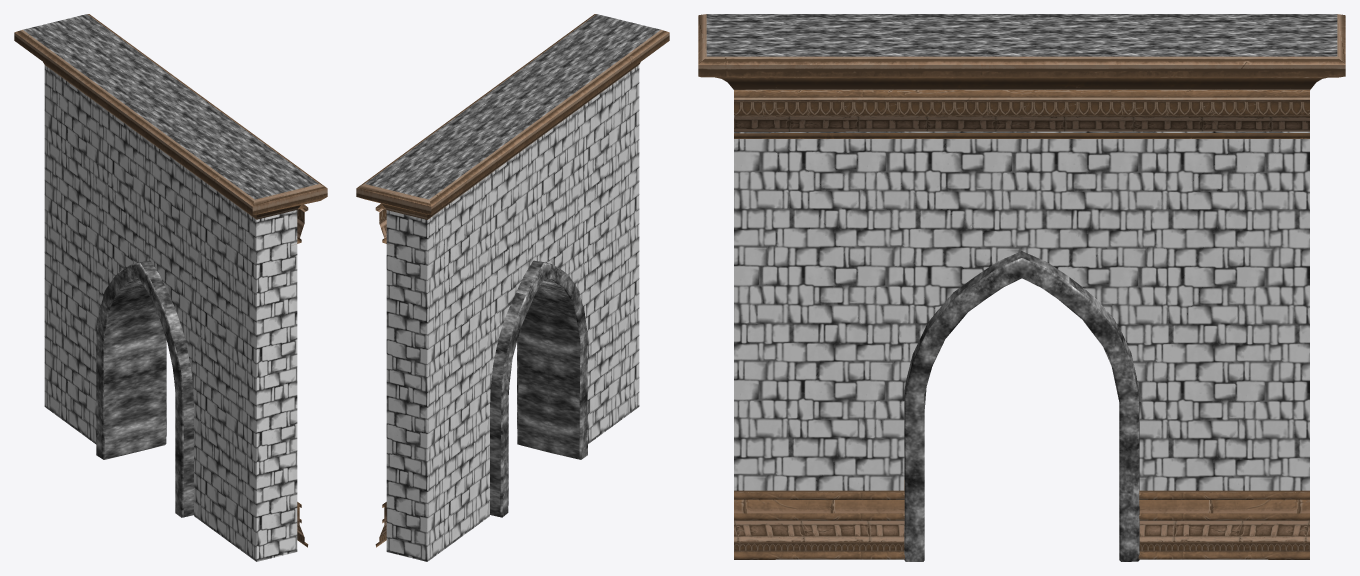
The model's file is SM_wall_small_01.fbx.
3 views of the same model, side by side, from view 1: azimuth 30°, elevation 25°; view 2: azimuth 150°, elevation 25°; view 3: azimuth 270°, elevation 25° (orthographic). The views are drawn at different scales.
Visible parts, largest first — view 1: SM_wall_small_01_LOD0; view 2: SM_wall_small_01_LOD0; view 3: SM_wall_small_01_LOD0.
Part boxes in pixels (x1=…): SM_wall_small_01_LOD0: x1=14, y1=14, x2=327, y2=561; SM_wall_small_01_LOD0: x1=356, y1=14, x2=669, y2=561; SM_wall_small_01_LOD0: x1=698, y1=14, x2=1345, y2=561.
Size of the model in its own units: 184 by 1012 by 873.
